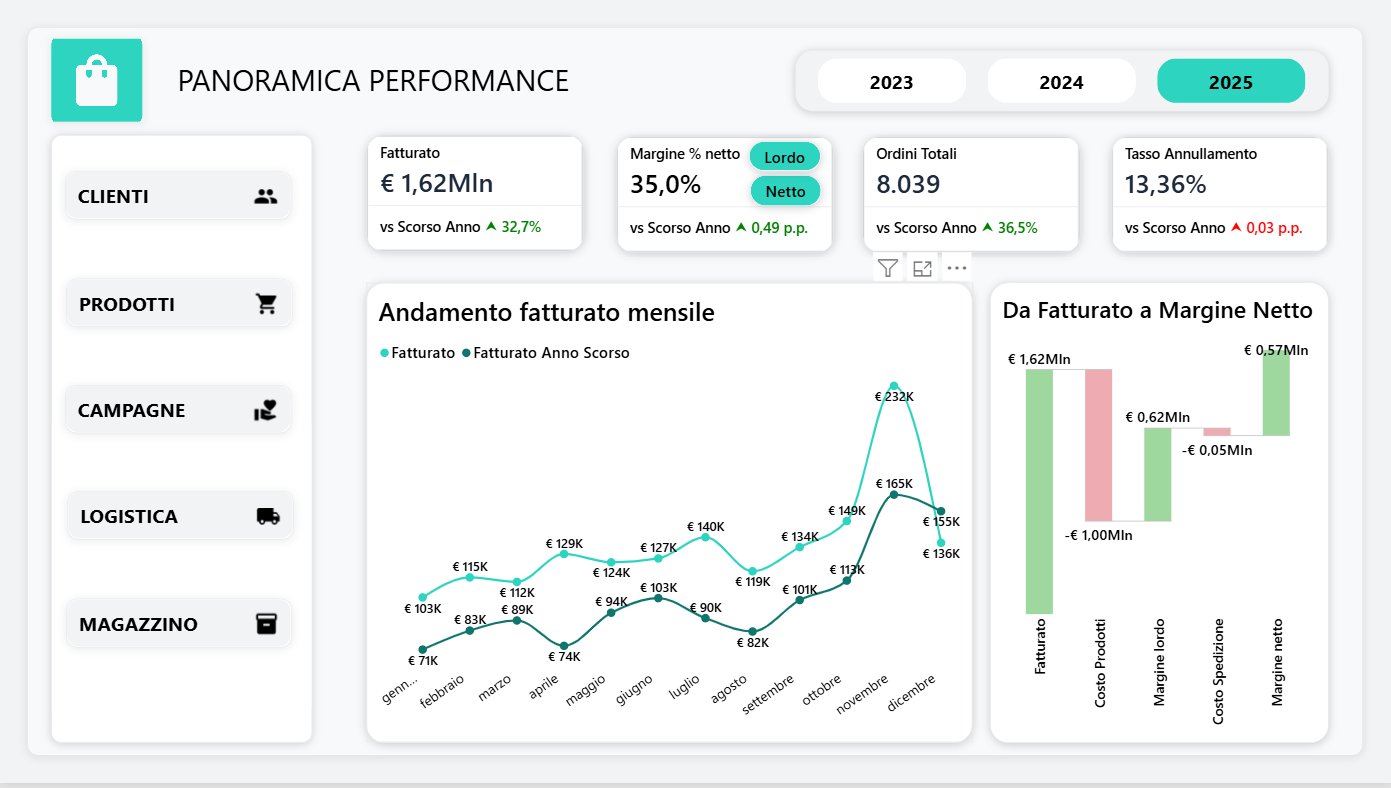

The page's visual inventory and layout, read from the dashboard file:
{"tool":"powerbi","page":{"name":"Overview","canvas":[1920,1080],"ordinal":0},"visuals":[{"type":"shape","box":[38.2,38.2,1841.8,1003.6],"z":0},{"type":"shape","box":[70,186,360,838],"z":1000},{"type":"actionButton","box":[89.1,236.4,312,66],"z":2000},{"type":"actionButton","box":[91.5,383.6,312,66],"z":3000},{"type":"actionButton","box":[90.3,530.9,312,66],"z":4000},{"type":"actionButton","box":[92.7,678.2,312,66],"z":5000},{"type":"actionButton","box":[91.5,825.5,310.9,67.3],"z":6000},{"type":"image","box":[70.6,54.3,125.5,114.5],"z":7000},{"type":"textbox","title":"PANORAMICA PERFORMANCE","box":[244,83.2,821.6,57.9],"z":8000},{"type":"advancedSlicerVisual","fields":{"Values":["Data.Anno"]},"box":[1096.7,68.8,736.5,85.1],"z":9000},{"type":"cardVisual","fields":{"Data":["gold fact_vendite.Fatturato"]},"box":[504.9,186.4,300.4,161.1],"z":10000},{"type":"cardVisual","fields":{"Data":["gold fact_vendite.Ordini Totali"]},"box":[1190.2,187.5,300.4,161.1],"z":11000},{"type":"cardVisual","fields":{"Data":["gold fact_vendite.Tasso Annullamento"]},"box":[1532.8,188.5,300.4,161.1],"z":13000},{"type":"cardVisual","fields":{"Data":["gold fact_vendite.Margine % netto"]},"box":[850.3,188.7,300.4,161.1],"z":14000},{"type":"actionButton","box":[1034,241.2,98.8,43.5],"z":15000},{"type":"actionButton","box":[1033.3,195.4,99.8,41.2],"z":16000},{"type":"lineChart","title":"Andamento fatturato mensile","fields":{"Category":["Data.NomeMese"],"Y":["gold fact_vendite.Fatturato","gold fact_vendite.FatturatoLY"]},"box":[504.9,389.1,836.1,635.2],"z":17000},{"type":"waterfallChart","title":"Da Fatturato a Margine Netto","fields":{"Y":["gold fact_vendite.Valore Bridge Margine"],"Category":["Bridge Margine.Voce"]},"box":[1366.3,389.1,466.9,635.2],"z":18000}]}

Visuals, with their boxes in screenshot pixels (x1, y1, x2, y2), scaled from the page's 1920x1080 canvas onto the 1391x788 screenshot:
shape: [28,28,1362,760]
shape: [51,136,312,747]
actionButton: [65,172,291,221]
actionButton: [66,280,292,328]
actionButton: [65,387,291,436]
actionButton: [67,495,293,543]
actionButton: [66,602,292,651]
image: [51,40,142,123]
"PANORAMICA PERFORMANCE" textbox: [177,61,772,103]
advancedSlicerVisual - Data.Anno: [795,50,1328,112]
cardVisual - gold fact_vendite.Fatturato: [366,136,583,254]
cardVisual - gold fact_vendite.Ordini Totali: [862,137,1080,254]
cardVisual - gold fact_vendite.Tasso Annullamento: [1110,138,1328,255]
cardVisual - gold fact_vendite.Margine % netto: [616,138,834,255]
actionButton: [749,176,821,208]
actionButton: [749,143,821,173]
"Andamento fatturato mensile" lineChart: [366,284,972,747]
"Da Fatturato a Margine Netto" waterfallChart: [990,284,1328,747]
